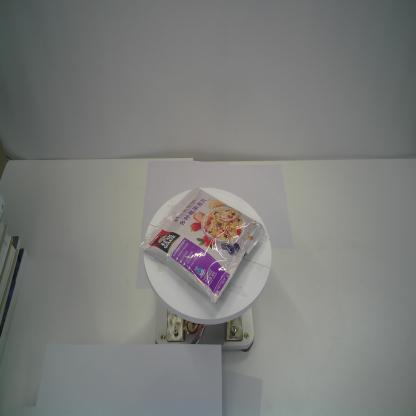Instant Drink: (138, 185, 266, 305)
